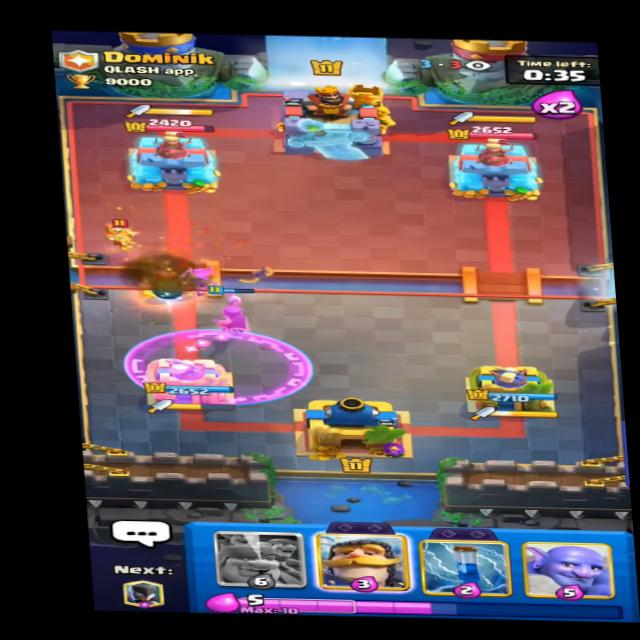wizard: (95, 215, 154, 252)
